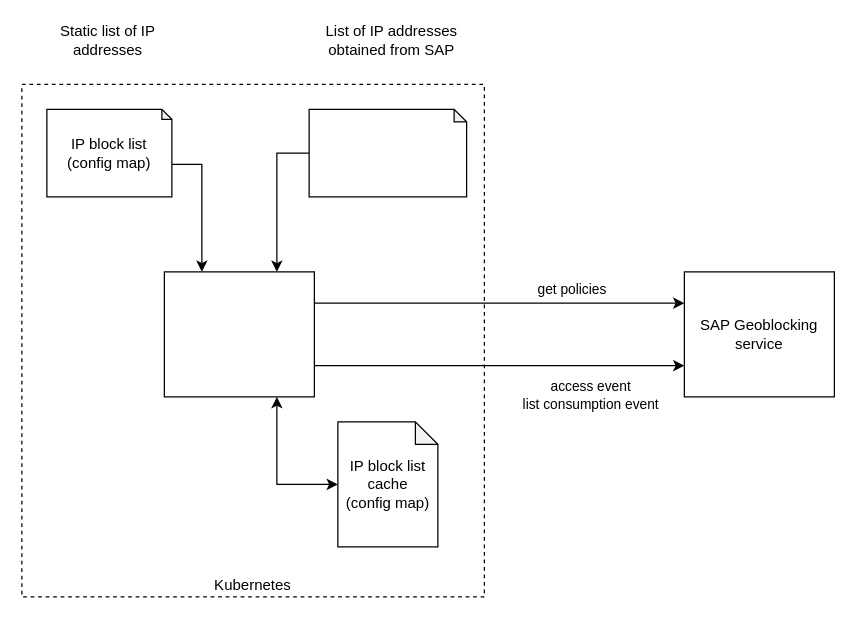
The diagram is 856 pixels wide and 619 high, and some of its shapes have lost their labels. The centre of each missing label's shape, as x and y in pixels:
ip-auth (pod): [238,334]
SAP geoblocking service credentials (secret): [387,152]
